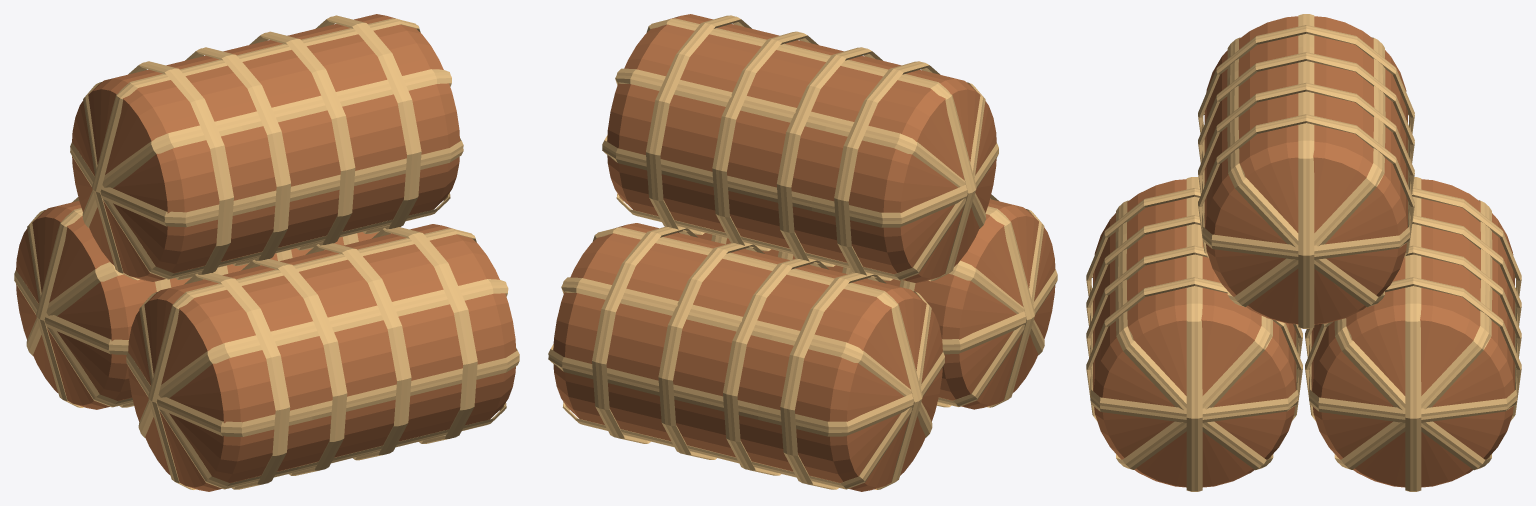
Rendered from tawara3.fbx.
The picture shows the model from 3 angles, left to right: view 1: azimuth 30°, elevation 25°; view 2: azimuth 150°, elevation 25°; view 3: azimuth 270°, elevation 25°; orthographic projection. The views are drawn at different scales.
Visible parts, largest first — view 1: 円柱; view 2: 円柱; view 3: 円柱.
Part boxes in pixels (x1,y1,x2,y2): 円柱: [14, 14, 519, 491]; 円柱: [548, 14, 1057, 491]; 円柱: [1086, 14, 1521, 491].
Bounding box in the file's own units: 387 × 389 × 428.
